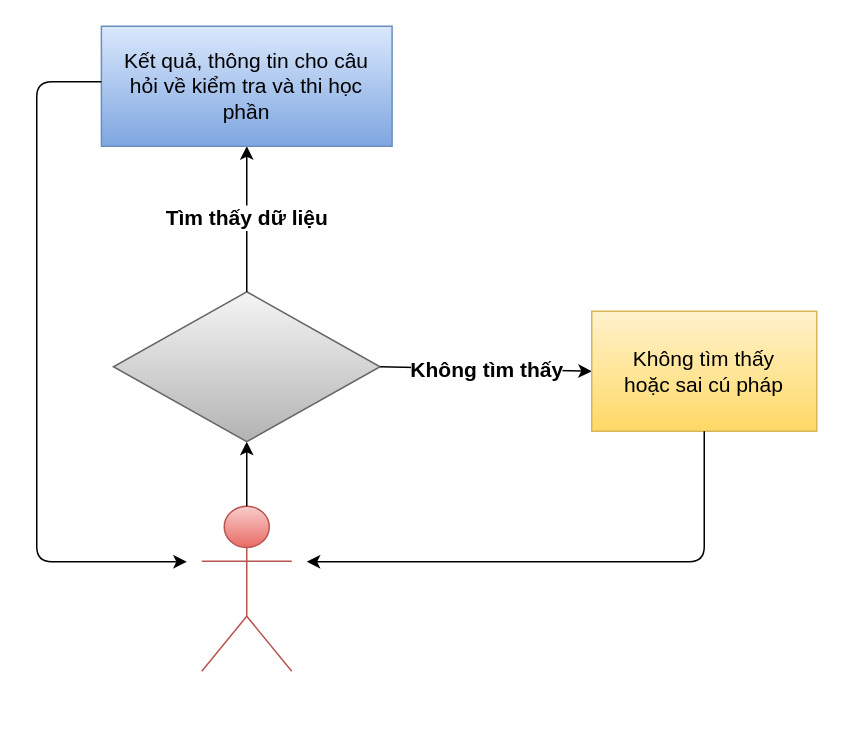
The diagram is 843 pixels wide and 729 high, and some of its shapes have lost their labels. Each missing label, with the centre of its shape:
Câu hỏi về kiểm tra và thi học phần: pixel 246 366
Người dùng: pixel 246 588
